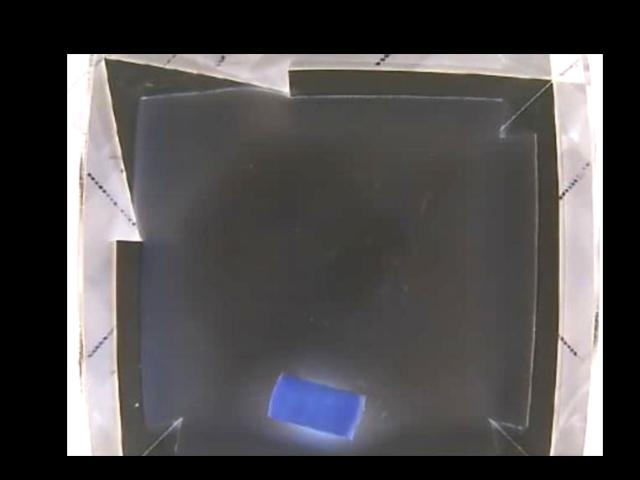Potato: (265, 371, 365, 438)
